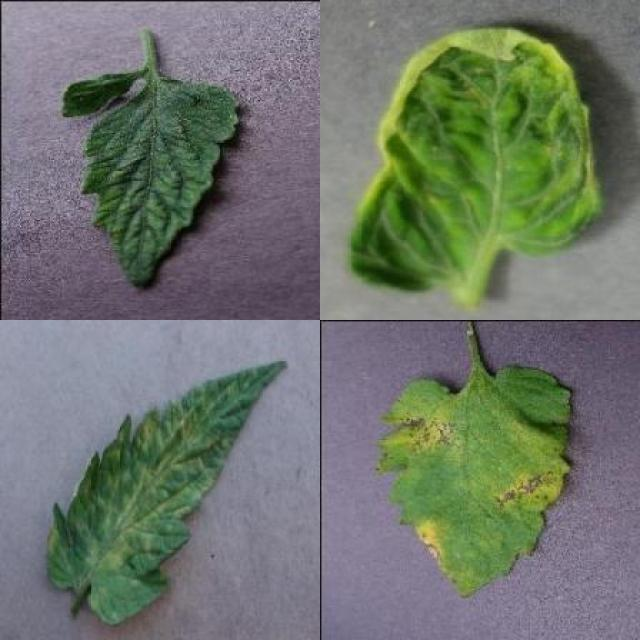Leaf Mold: (50, 358, 286, 628)
Mosaic Virus: (60, 69, 243, 290)
Septoria: (373, 367, 573, 600)
Yellow Leaf Curl Virus: (347, 27, 600, 294)
